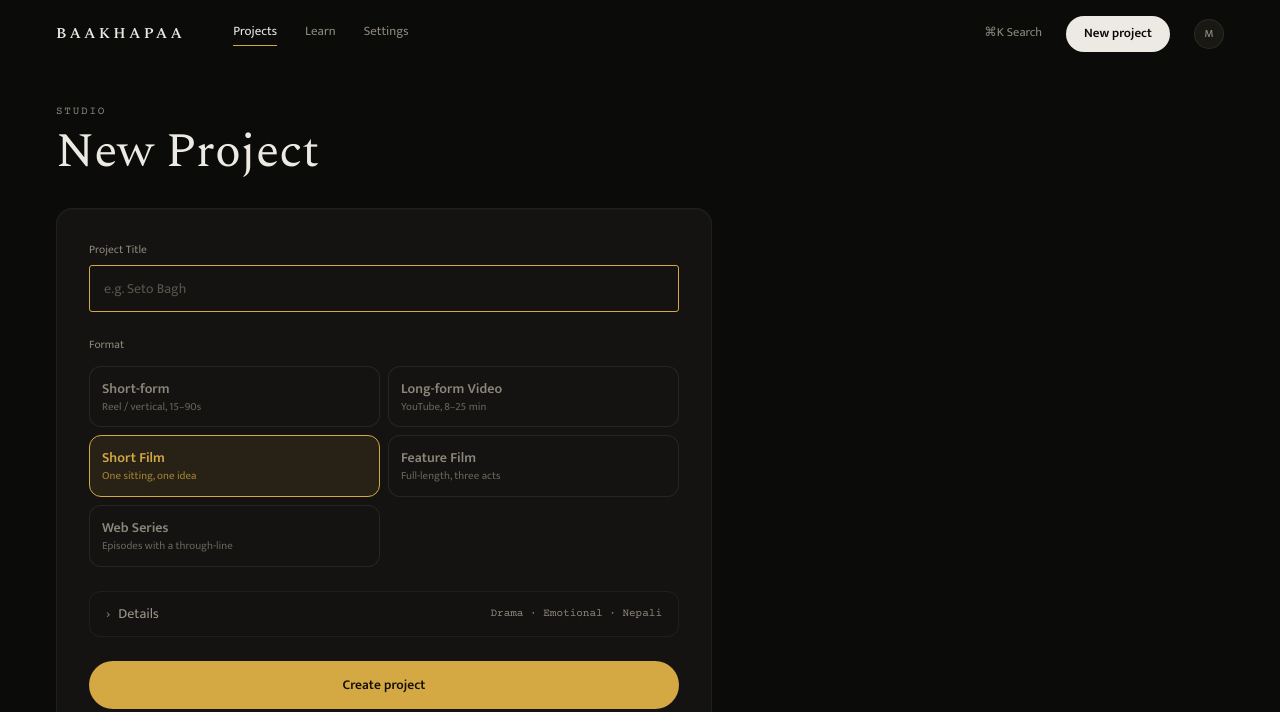
Test: the kind of long-form video › is asked beside the format, not hidden in Details, and only for long-form
This screenshot has width=1280, height=712.
Expected: the element "Kind of video" is not shown
Click the button "Long-form Video YouTube, 8–25 min" at (452, 388), box [388,366,679,427]
(page scrolled)
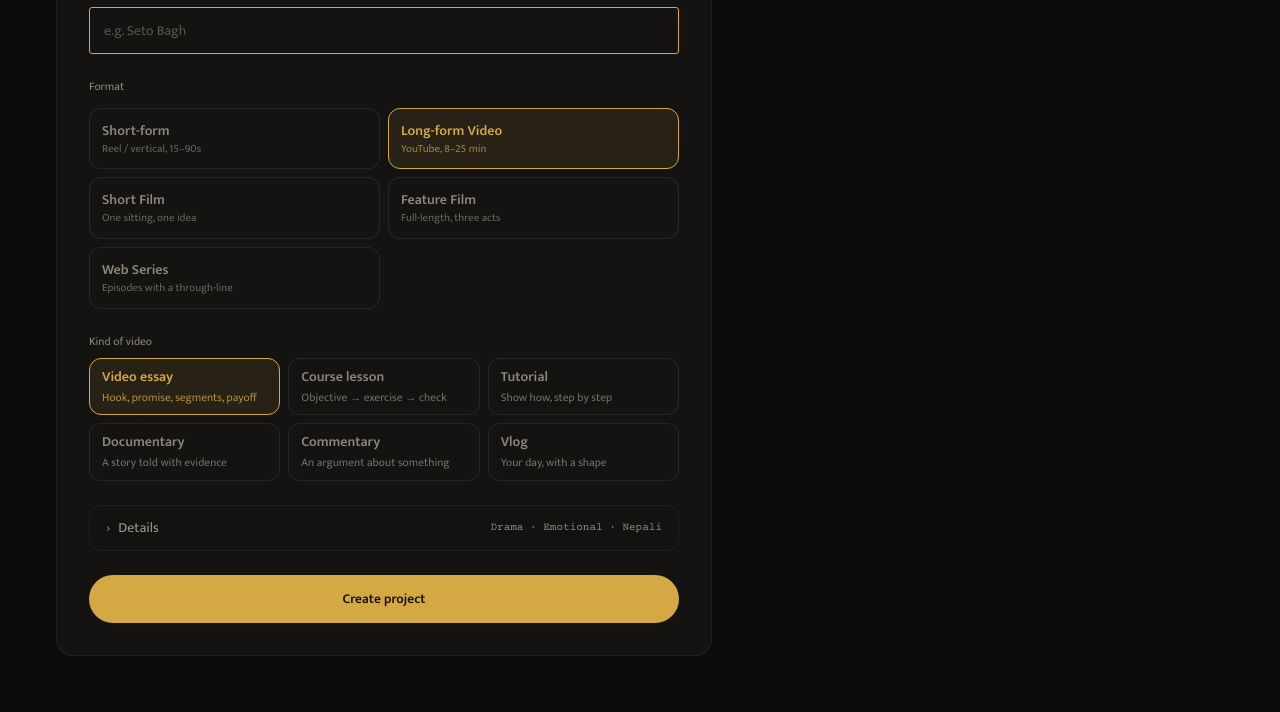
Now the element named "Kind of video" is shown, box [89,358,679,480]
